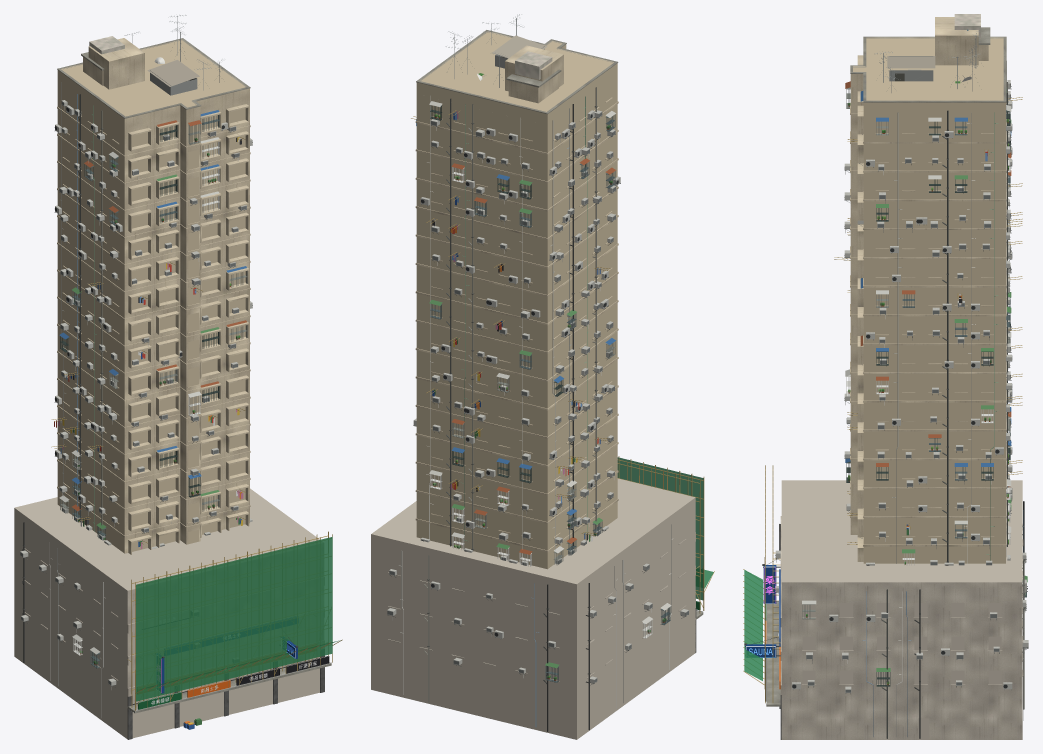
Rendered from podium-tower.glb.
3 views of the same model, side by side, from view 1: azimuth 30°, elevation 25°; view 2: azimuth 150°, elevation 25°; view 3: azimuth 270°, elevation 25° (orthographic). The views are drawn at different scales.
Parts seen in each view (by area): view 1: LOD_vc, Building_wall, Scaffold_net, Building_metal, Building_vc, Building_ac, Building_slab, Building_board, Scaffold_bamboo, Building_podium, Building_granite; view 2: LOD_vc, Building_wall, Building_vc, Building_metal, Building_ac, Scaffold_net, Building_slab, Scaffold_bamboo, Building_tank, Building_podium; view 3: LOD_vc, Building_podium, Building_wall, Building_vc, Building_metal, Building_ac, Building_slab, Scaffold_net, Building_board, Scaffold_bamboo, Building_bamboo, Building_tin.
Part boxes in pixels (<box>): LOD_vc: <box>14,40,319,739</box>; Building_wall: <box>57,38,250,554</box>; Scaffold_net: <box>136,537,339,701</box>; Building_metal: <box>20,15,331,711</box>; Building_vc: <box>22,57,246,729</box>; Building_ac: <box>20,100,252,685</box>; Building_slab: <box>57,38,331,713</box>; Building_board: <box>138,640,329,709</box>; Scaffold_bamboo: <box>127,531,342,710</box>; Building_podium: <box>23,548,319,703</box>; Building_granite: <box>127,655,324,739</box>; LOD_vc: <box>371,32,695,739</box>; Building_wall: <box>415,31,618,552</box>; Building_vc: <box>392,35,672,731</box>; Building_metal: <box>387,14,703,685</box>; Building_ac: <box>387,110,688,683</box>; Scaffold_net: <box>617,457,713,600</box>; Building_slab: <box>416,30,703,619</box>; Scaffold_bamboo: <box>617,456,714,613</box>; Building_tank: <box>515,51,552,79</box>; Building_podium: <box>388,532,695,681</box>; LOD_vc: <box>781,38,1022,739</box>; Building_podium: <box>780,516,1023,739</box>; Building_wall: <box>850,17,1006,561</box>; Building_vc: <box>776,29,1027,738</box>; Building_metal: <box>744,31,1028,708</box>; Building_ac: <box>775,80,1028,692</box>; Building_slab: <box>766,27,1006,706</box>; Scaffold_net: <box>744,570,762,680</box>; Building_board: <box>745,524,780,701</box>; Scaffold_bamboo: <box>743,465,780,703</box>; Building_bamboo: <box>834,97,1022,544</box>; Building_tin: <box>889,56,933,81</box>.
Size of the model in its own units: 23.14 by 66.63 by 26.09.
21 materials, 8 textured.
